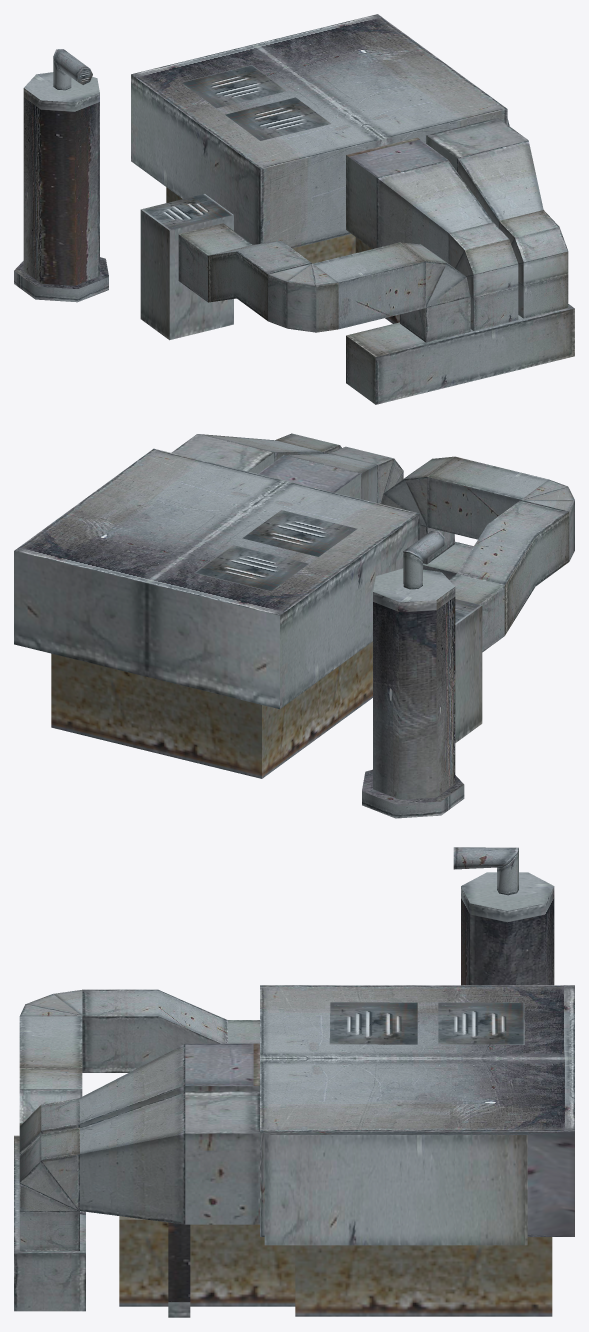
File: air_vent_system_roof.fbx
3 renders of one model, top to bottom at view 1: azimuth 30°, elevation 25°; view 2: azimuth 150°, elevation 25°; view 3: azimuth 270°, elevation 25°, orthographic. The views are drawn at different scales.
Parts seen in each view (by area): view 1: air_vent_system_roof; view 2: air_vent_system_roof; view 3: air_vent_system_roof.
Part boxes in pixels (x1,y1,x2,y2): air_vent_system_roof: (14,14,574,404); air_vent_system_roof: (14,433,574,818); air_vent_system_roof: (14,847,574,1317).
Bounding box in the file's own units: 614 × 339 × 615.
